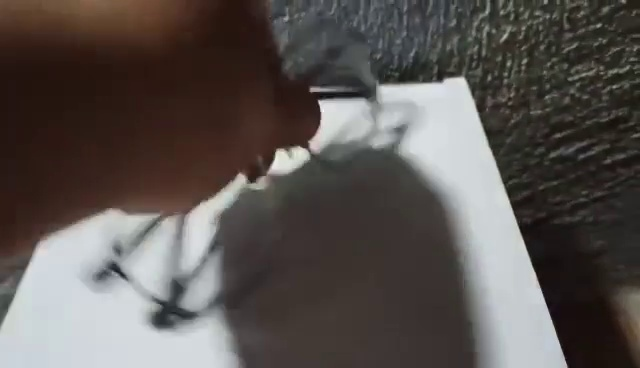glasses: (93, 13, 385, 328)
